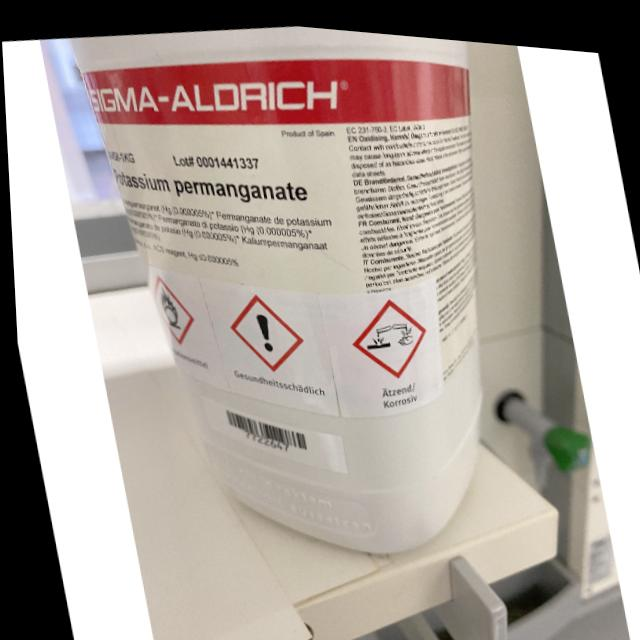corrosive: (356, 309, 417, 350)
health-ozone layer hazard: (250, 304, 276, 352)
oxidising: (155, 281, 181, 330)
